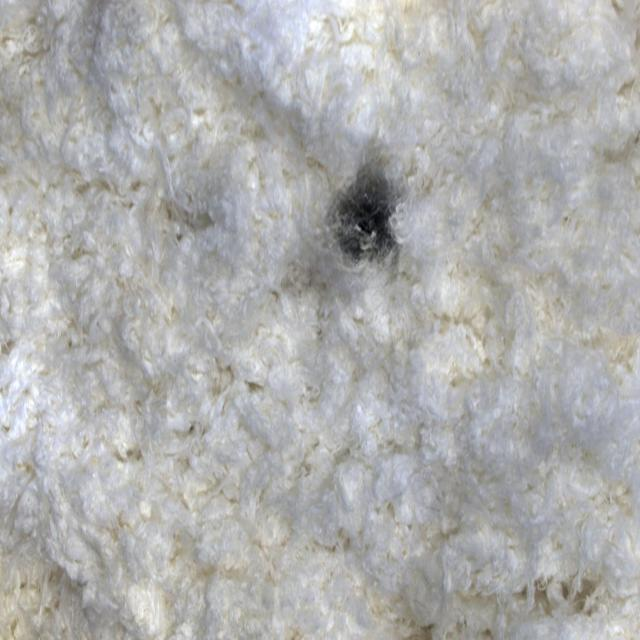dust: (299, 105, 447, 338)
